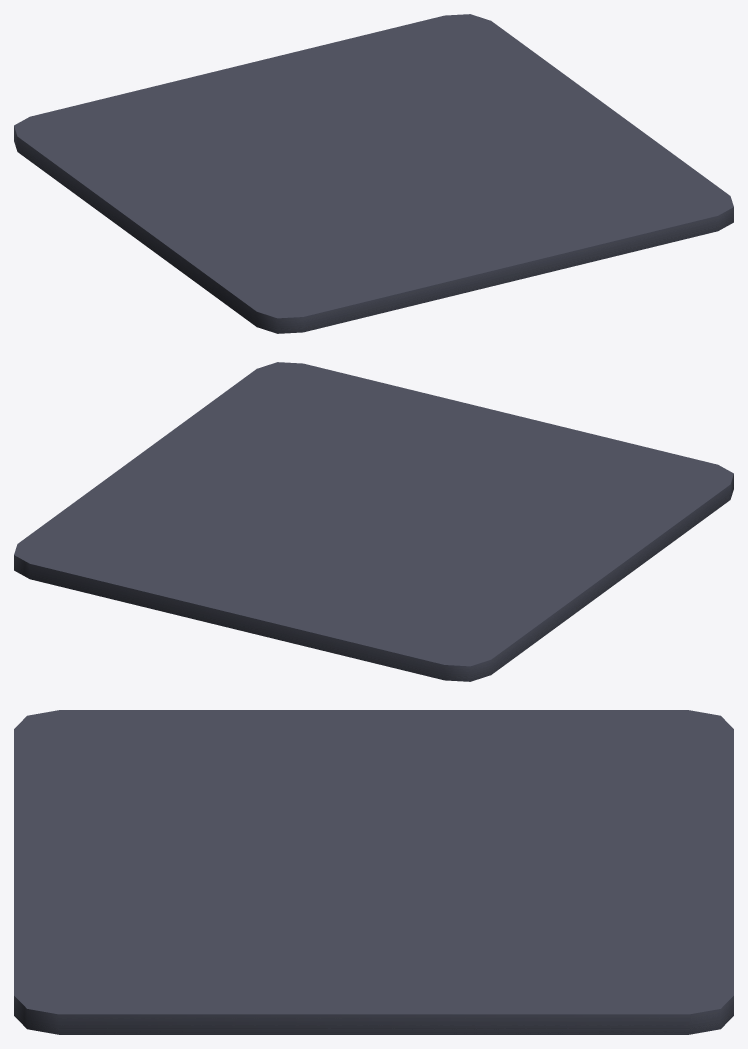
The model's file is architecture.ceiling.building_roof_flat_patch_large_01.glb.
3 views of the same model, one above another, from view 1: azimuth 30°, elevation 25°; view 2: azimuth 150°, elevation 25°; view 3: azimuth 270°, elevation 25° (orthographic). The views are drawn at different scales.
Visible parts, largest first — view 1: roof-flat-patch-large; view 2: roof-flat-patch-large; view 3: roof-flat-patch-large.
Boxes of the visible parts, box(x1,y1,x2,y2) form: roof-flat-patch-large: box(14, 14, 733, 333); roof-flat-patch-large: box(14, 362, 733, 681); roof-flat-patch-large: box(14, 710, 733, 1034).
Size of the model in its own units: 1.6 by 0.05 by 1.6.
Materials: 1 (1 with a texture image).
